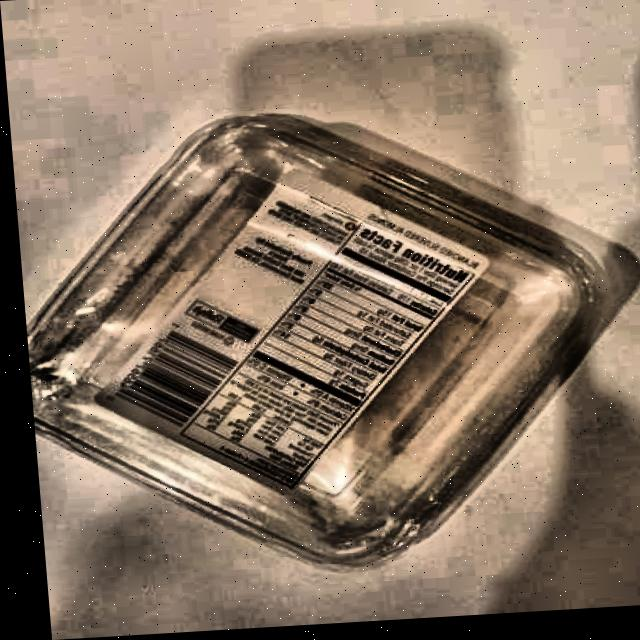plastic: (11, 93, 624, 586)
